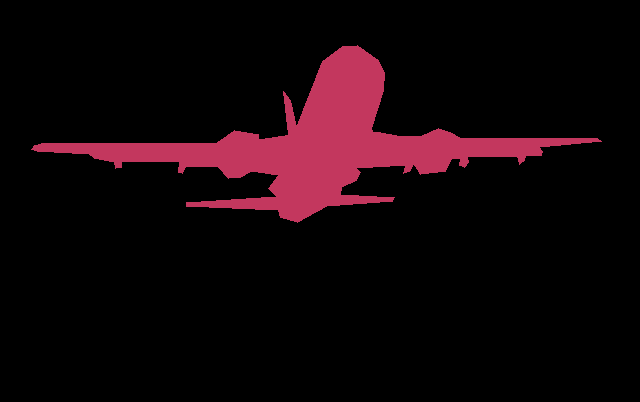Airplane: (31, 45, 601, 222)
